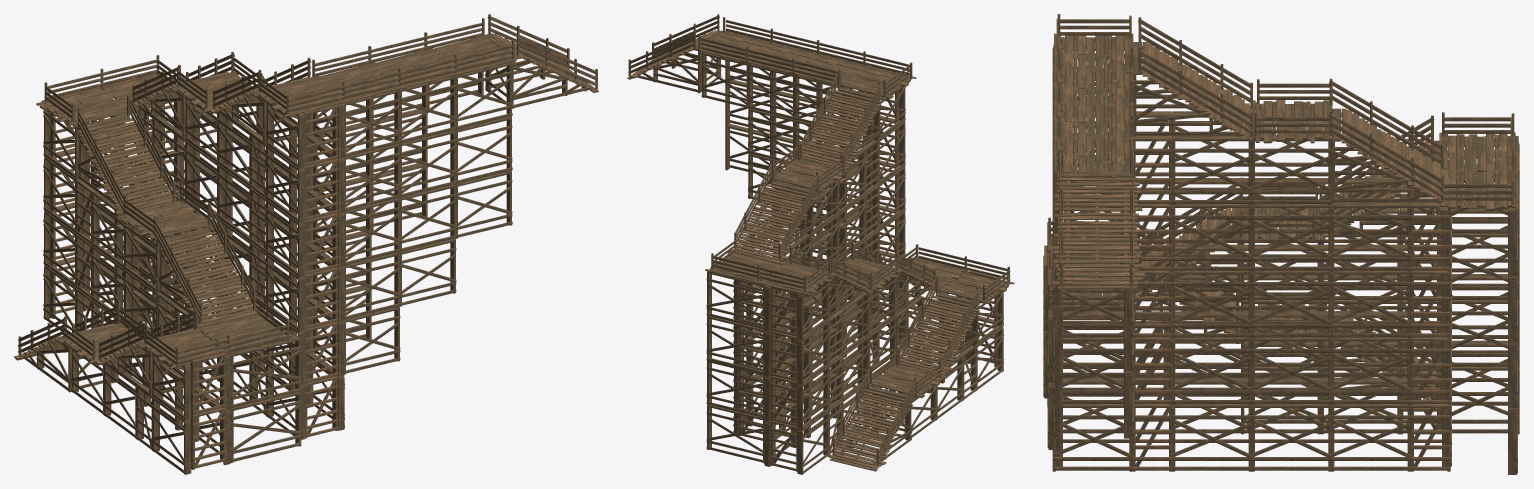
File: SM_Construction2.fbx
3 views of the same model, side by side, from view 1: azimuth 30°, elevation 25°; view 2: azimuth 150°, elevation 25°; view 3: azimuth 270°, elevation 25° (orthographic). The views are drawn at different scales.
Parts seen in each view (by area): view 1: SM_Construction2_LOD0; view 2: SM_Construction2_LOD0; view 3: SM_Construction2_LOD0.
Boxes of the visible parts, box(x1,y1,x2,y2) form: SM_Construction2_LOD0: box(14, 14, 598, 474); SM_Construction2_LOD0: box(627, 14, 1014, 474); SM_Construction2_LOD0: box(1043, 14, 1519, 474).
Bounding box in the file's own units: 3095 × 2397 × 2410.
Materials: 1 (1 with a texture image).
